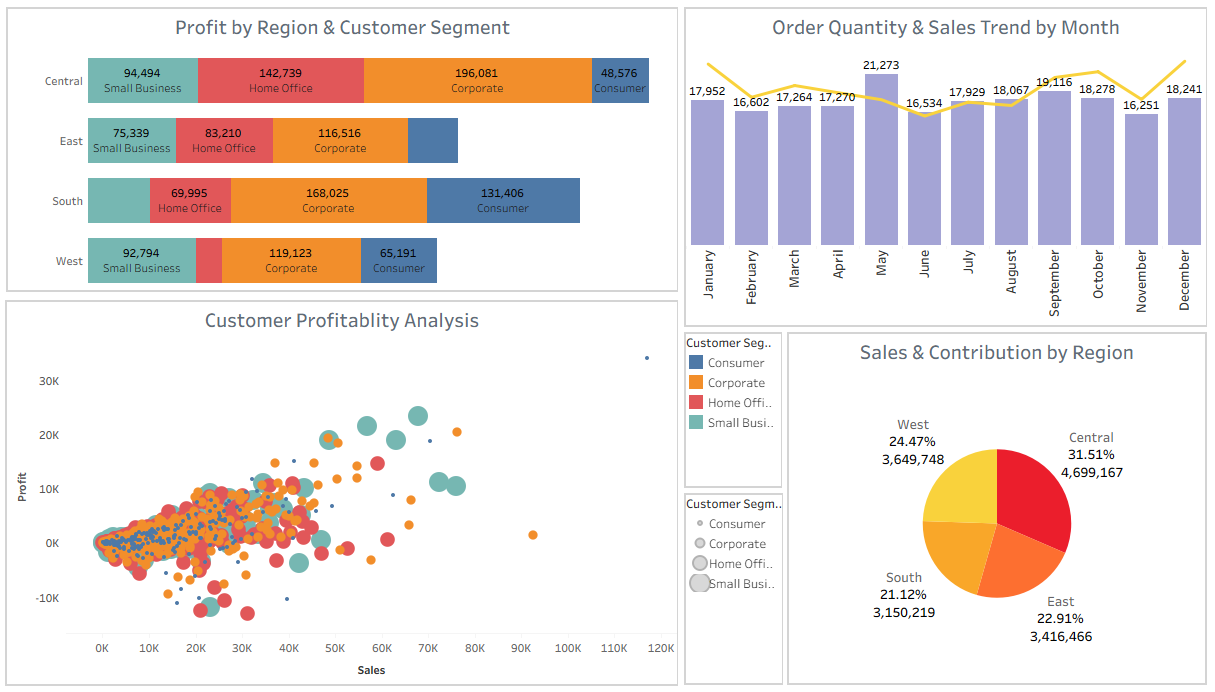

The page's visual inventory and layout, read from the dashboard file:
{"tool":"tableau","page":{"name":"Dashboard 1","canvas":[1000,1000],"units":"permille","ordinal":0},"visuals":[{"type":"worksheet","title":"Profit by Region & Customer Segment","mark":"Automatic","rows":["Region"],"cols":["Profit"],"box":[7,12.5,551.4,360.7]},{"type":"worksheet","title":"Order Quantity & Sales Trend by Month","mark":"Bar","rows":["Order Quantity","Sales"],"cols":["Order Date"],"box":[562.8,12.5,428.4,458.9]},{"type":"worksheet","title":"Customer Profitablity Analysis","mark":"Circle","rows":["Profit"],"cols":["Sales"],"box":[7,382.1,552.2,553.6]},{"type":"legend","title":"Customer Profitablity Analysis","param":"[federated.0djkema1q4cqil1bnfqk70gr8ztn].[none:Customer Segment:nk]","box":[562.8,478.6,80.8,223.2]},{"type":"worksheet","title":"Sales & Contribution by Region","mark":"Pie","box":[647.9,480.4,344.2,453.6]},{"type":"legend","title":"Customer Profitablity Analysis","param":"[federated.0djkema1q4cqil1bnfqk70gr8ztn].[none:Customer Segment:nk]","box":[562.8,708.9,81.7,225]}]}

Visuals, with their boxes on the dashboard's canvas, which has no fixed pixel size, in thousandths of its width and height (x1, y1, x2, y2). These are canvas units, not pixel positions in the 1215x692 screenshot, which may show the page scaled, cropped or inside an application window:
"Profit by Region & Customer Segment" worksheet: box(7, 12, 558, 373)
"Order Quantity & Sales Trend by Month" worksheet (Bar marks): box(563, 12, 991, 471)
"Customer Profitablity Analysis" worksheet (Circle marks): box(7, 382, 559, 936)
"Customer Profitablity Analysis" legend: box(563, 479, 644, 702)
"Sales & Contribution by Region" worksheet (Pie marks): box(648, 480, 992, 934)
"Customer Profitablity Analysis" legend: box(563, 709, 644, 934)
